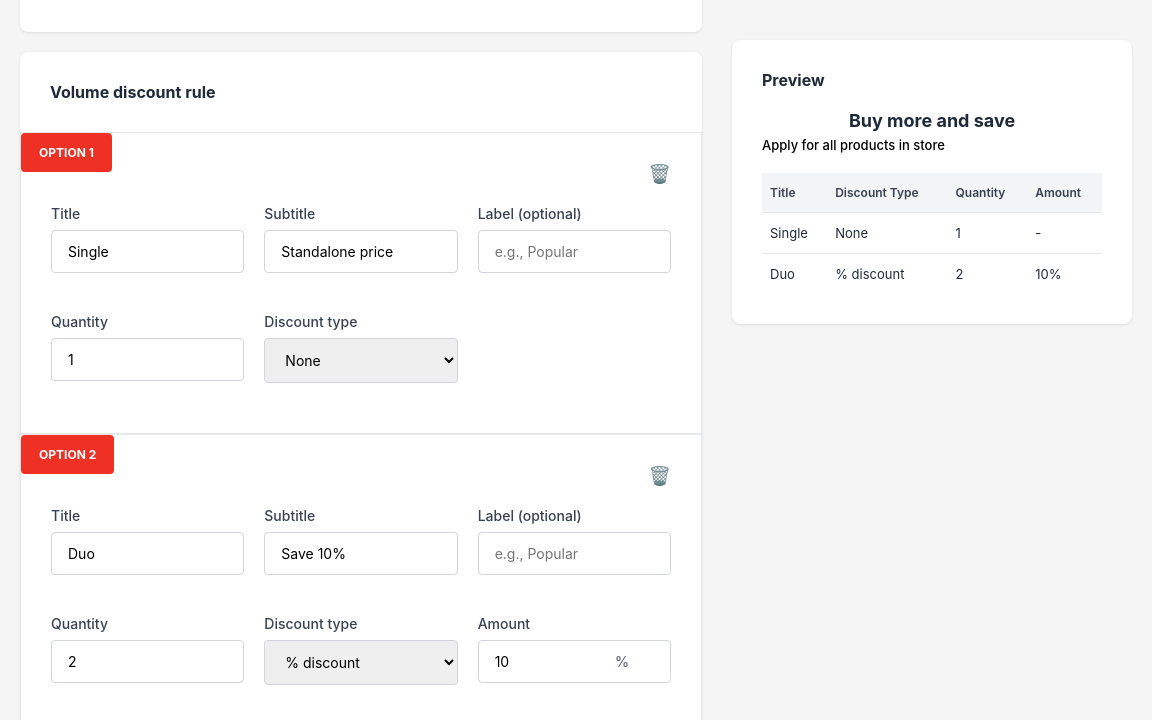
Scenario: VolumeDiscountForm Component › Conditional Rendering › shows correct suffix for discount type (% for percentage, $ for fixed)
(page scrolled)
Check: the text "%" is shown, box [615,653,629,670]
Select "Discount / each" in the 1st dropdown: (361, 360) [264,338,458,383]
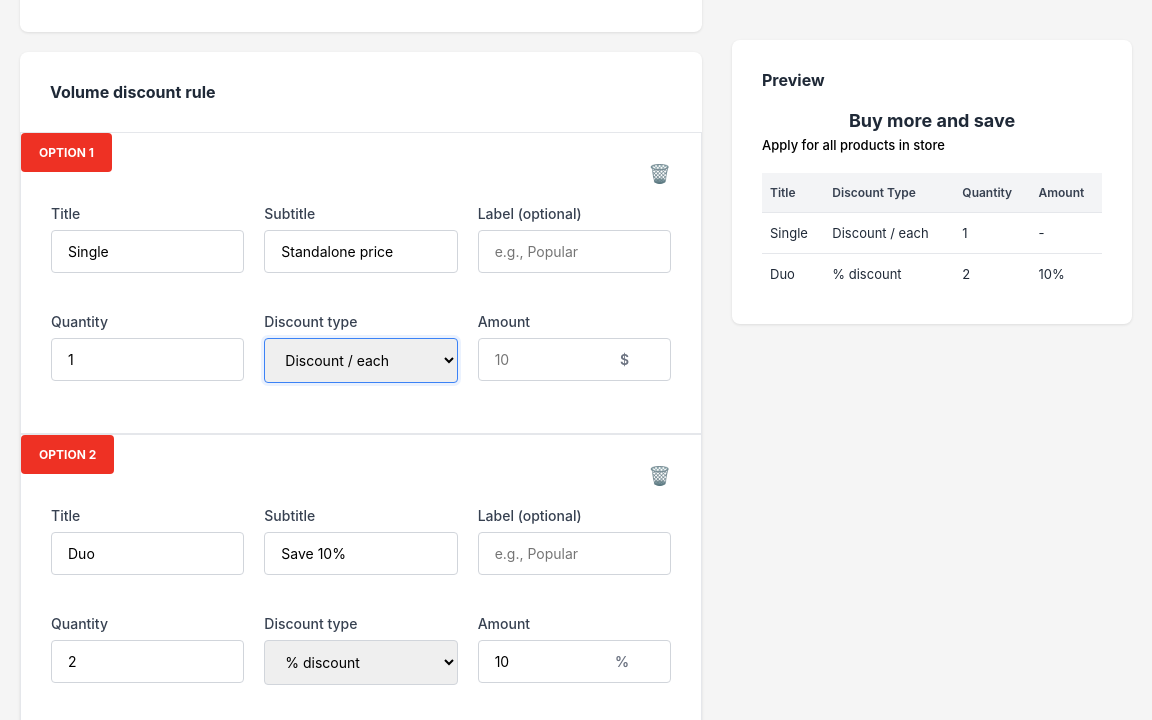
Check: the text "$" is shown, box [620,351,629,368]
